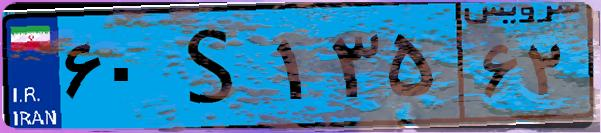0: (110, 28, 158, 98)
1: (270, 28, 330, 110)
2: (525, 38, 570, 115)
3: (330, 28, 385, 110)
5: (385, 28, 445, 110)
6: (57, 26, 110, 100), (475, 38, 525, 113)
S: (158, 12, 270, 120)
